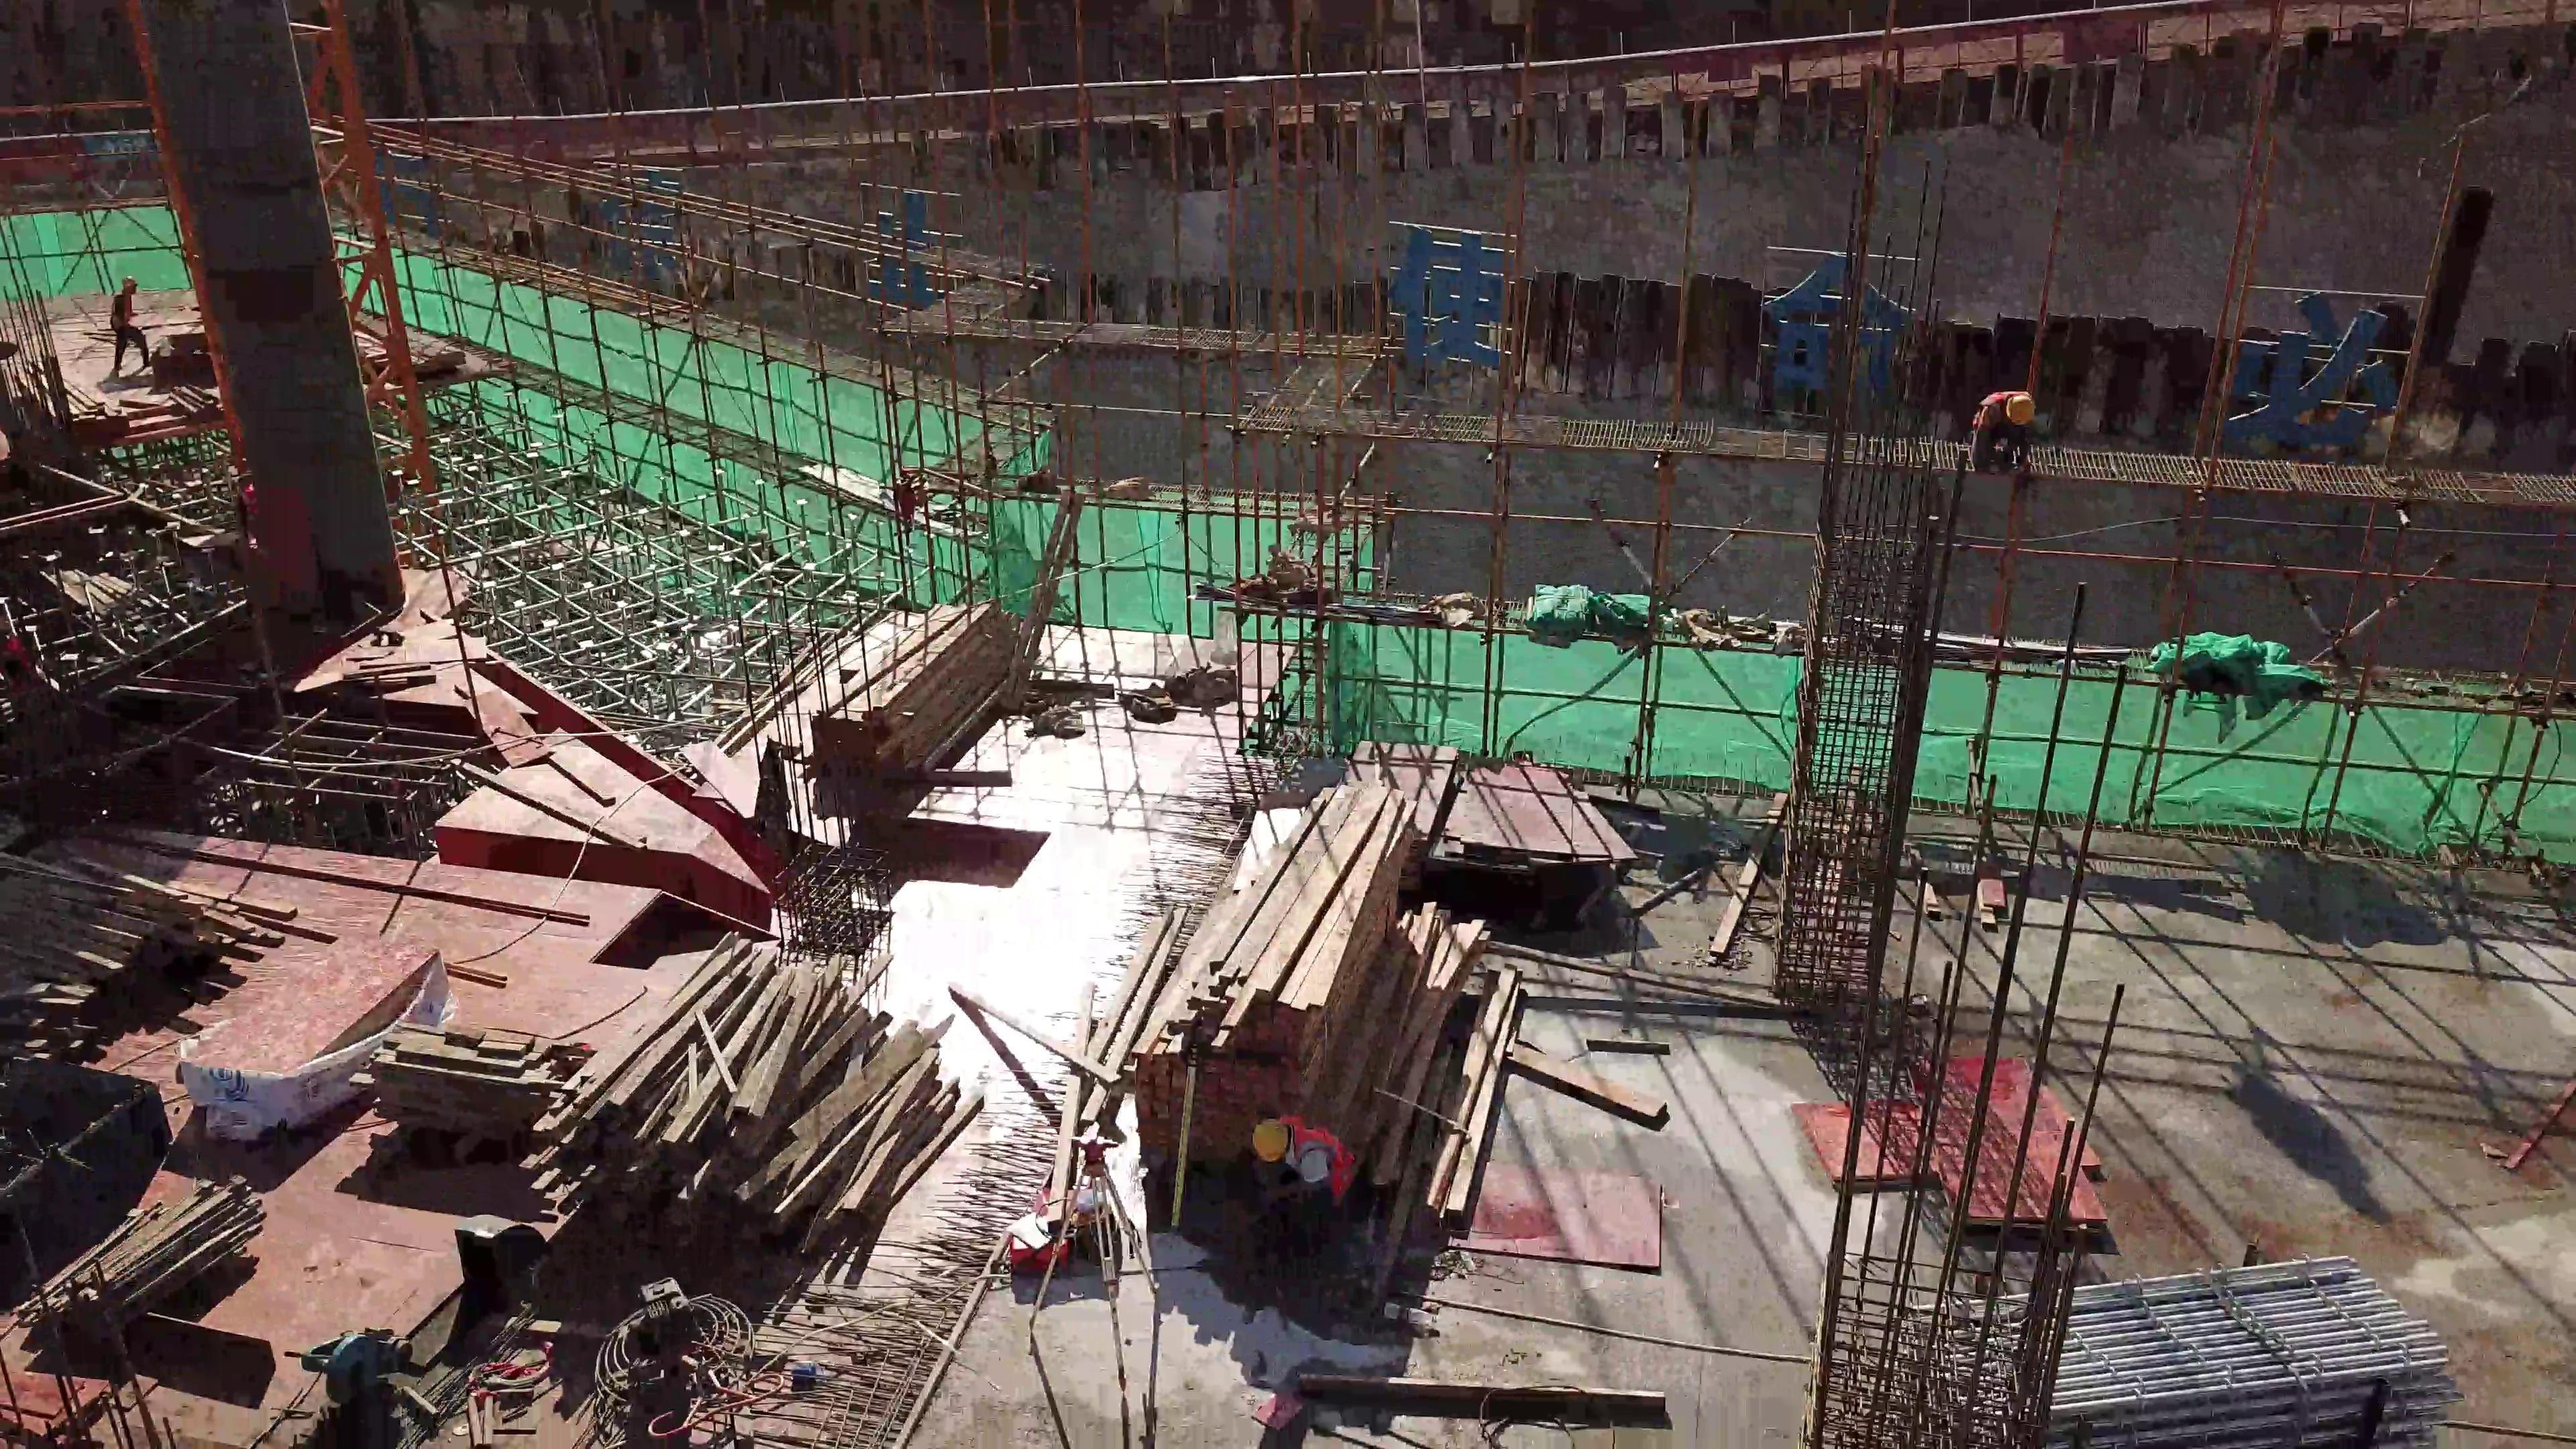board: (1430, 741, 1627, 902)
helmet: (1246, 1120, 1297, 1161), (2008, 392, 2040, 428), (117, 274, 138, 287)
person: (1232, 1108, 1373, 1276), (1963, 380, 2045, 471), (96, 272, 157, 385)
scaffold: (1941, 1240, 2455, 1449)
vest: (1291, 1116, 1357, 1193), (1970, 386, 2011, 436)
wood: (1134, 802, 1475, 1207), (548, 962, 993, 1250), (1, 841, 274, 1047), (804, 584, 1031, 821)
